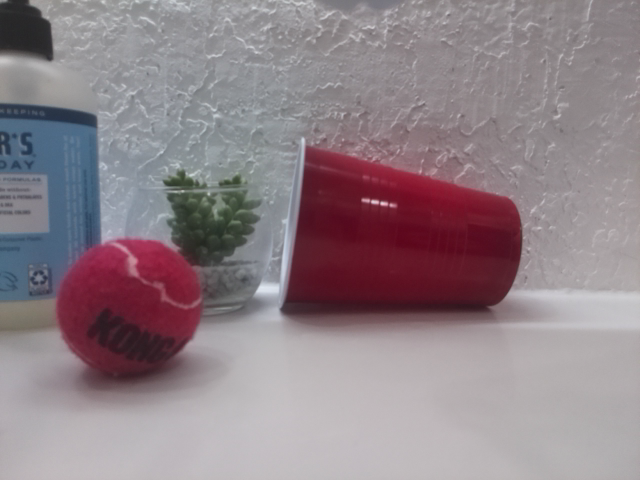red-ball: (54, 235, 205, 380)
